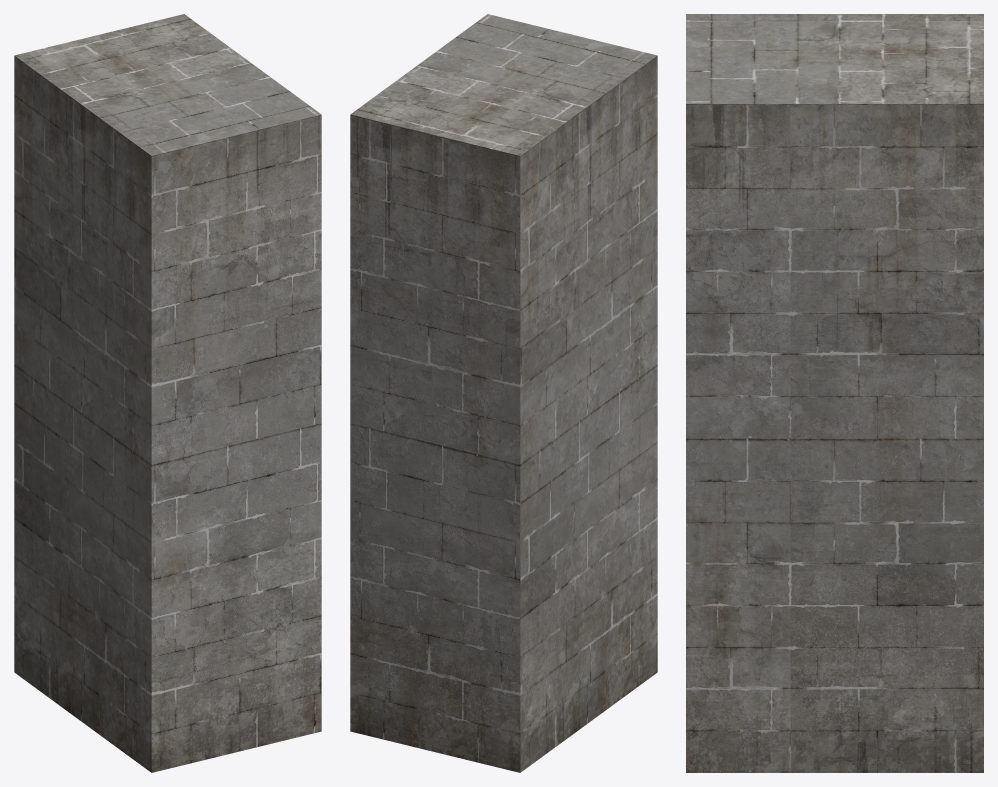
File: bg_lut_lucastle_churchtower10a_sm_ksh.FBX
The picture shows the model from 3 angles, left to right: view 1: azimuth 30°, elevation 25°; view 2: azimuth 150°, elevation 25°; view 3: azimuth 270°, elevation 25°; orthographic projection. The views are drawn at different scales.
Parts seen in each view (by area): view 1: bg_lut_lucastle_churchtower10a_sm_ksh; view 2: bg_lut_lucastle_churchtower10a_sm_ksh; view 3: bg_lut_lucastle_churchtower10a_sm_ksh.
Boxes of the visible parts, x1,y1,x2,y2 form: bg_lut_lucastle_churchtower10a_sm_ksh: (14, 14, 321, 772); bg_lut_lucastle_churchtower10a_sm_ksh: (350, 14, 657, 772); bg_lut_lucastle_churchtower10a_sm_ksh: (686, 14, 983, 772).
Size of the model in its own units: 148 by 512 by 207.
